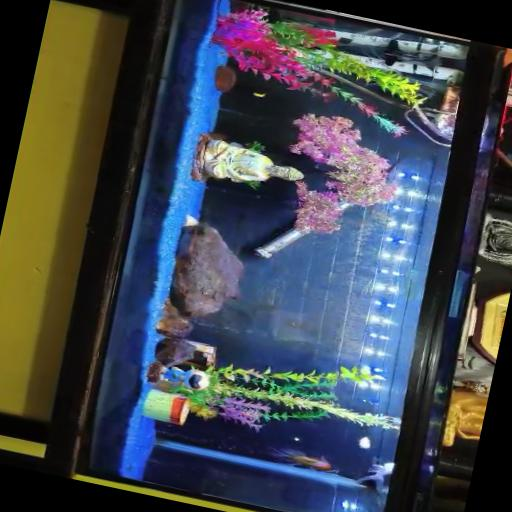Fish: (271, 448, 332, 470), (355, 461, 393, 492), (252, 92, 265, 96)
